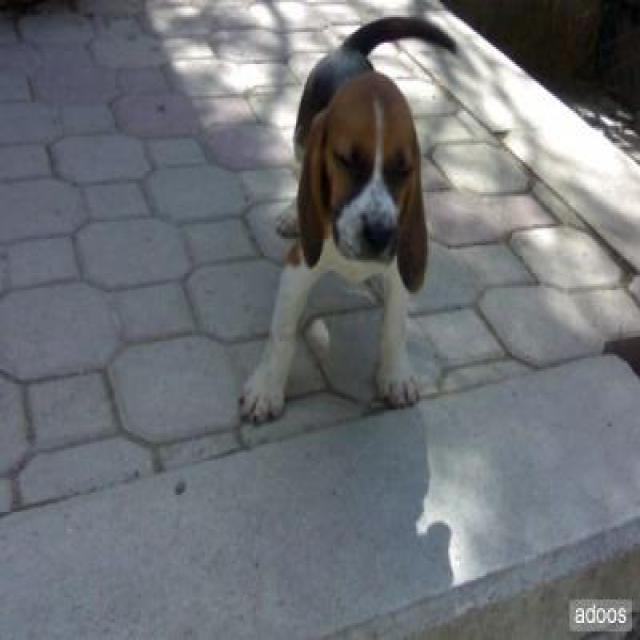beagle: (242, 15, 459, 424)
